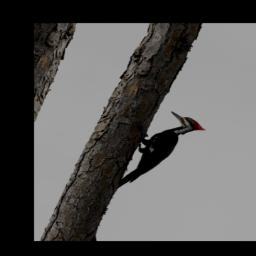Woodpecker: (116, 106, 210, 207)
